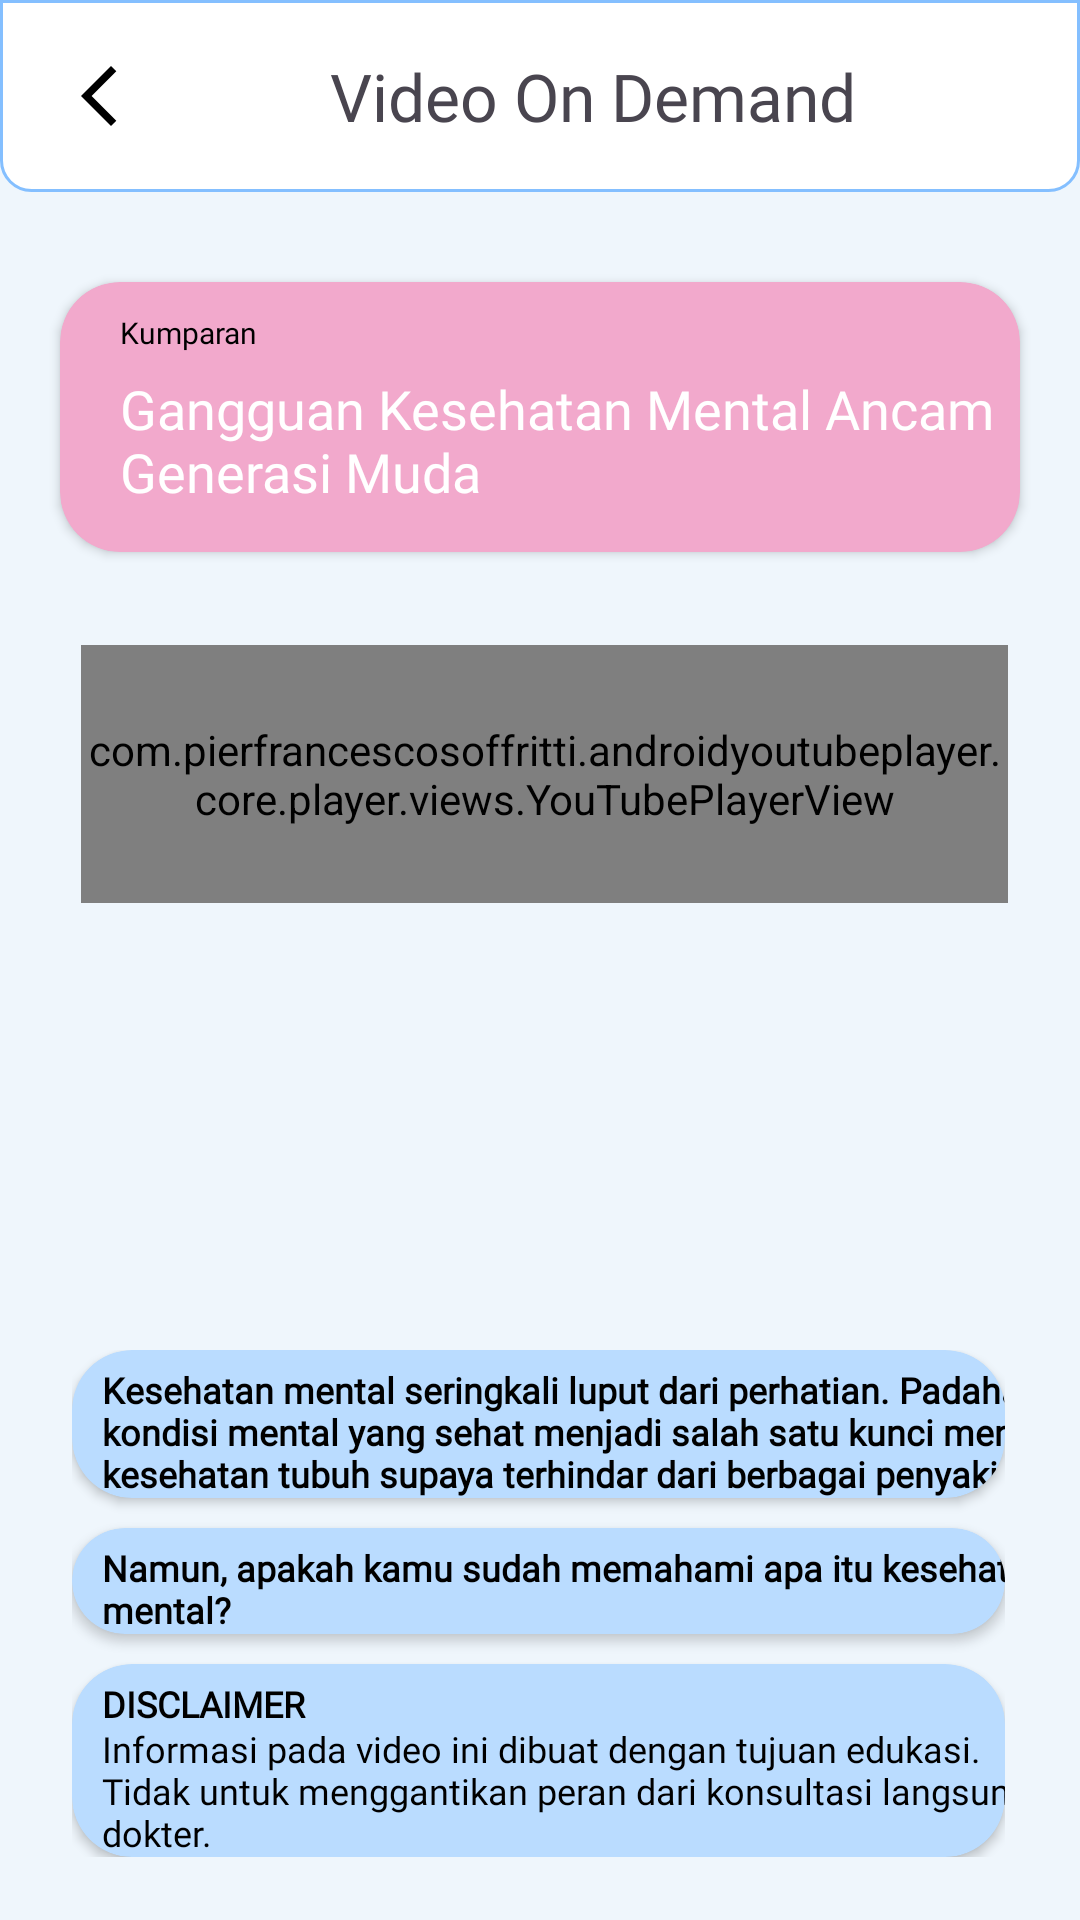

Locate icon controls on the screen. Image size 1080w x 1920h, boxes as (x1, y1, x2, y2).
kembali: (81, 66, 116, 126)
